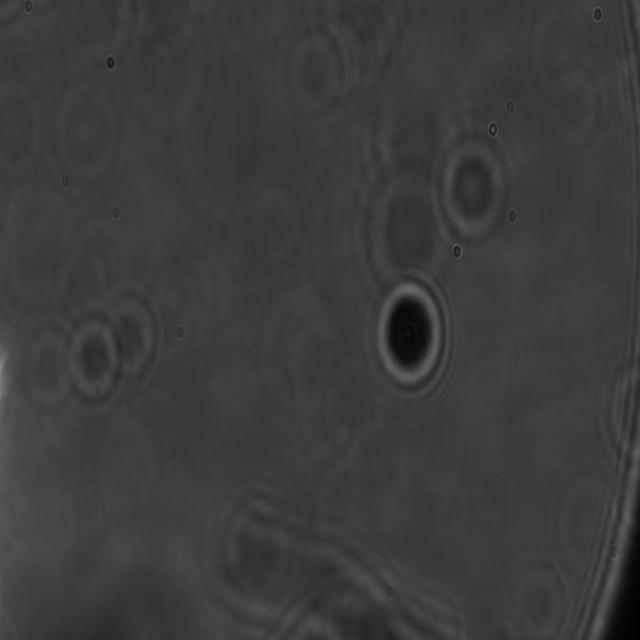DCELL: (369, 266, 456, 402)
